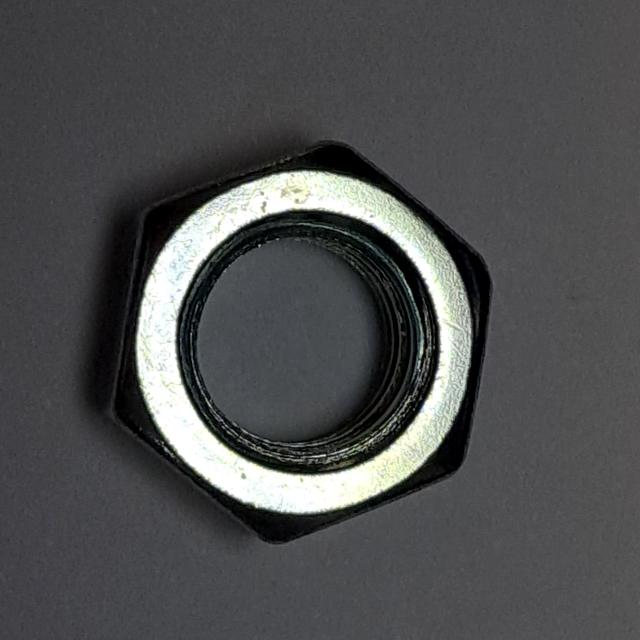Excellent: (89, 129, 502, 562)
